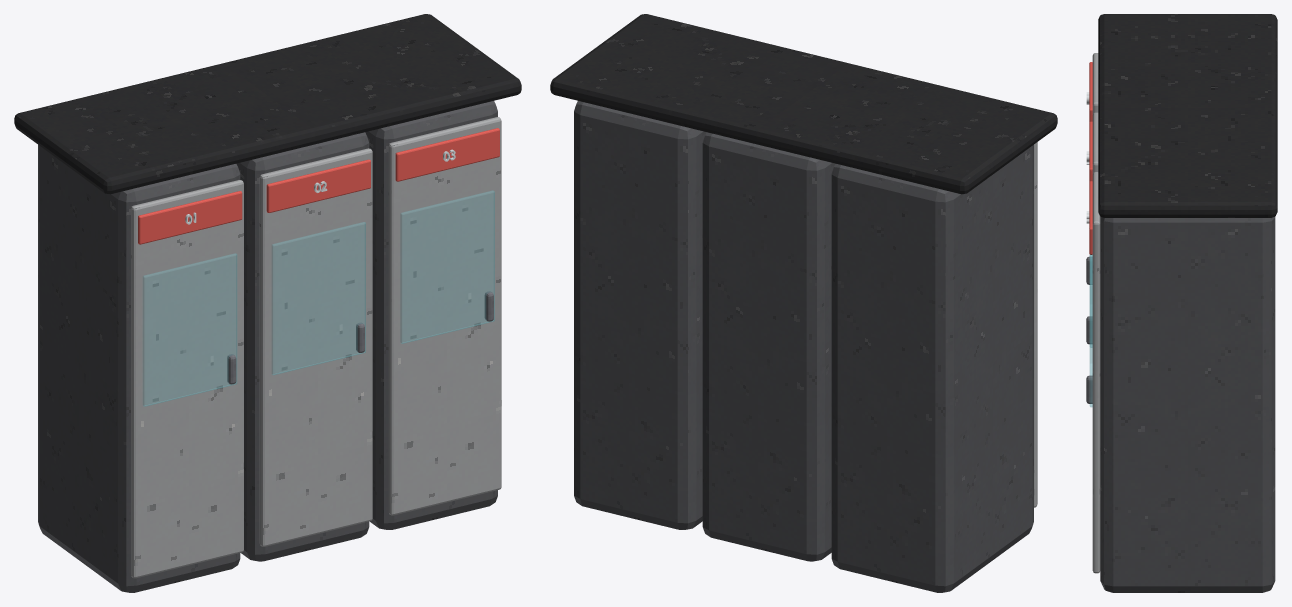
File: decor_sec_equipment_locker_bank.glb
3 views of the same model, side by side, from view 1: azimuth 30°, elevation 25°; view 2: azimuth 150°, elevation 25°; view 3: azimuth 270°, elevation 25° (orthographic). The views are drawn at different scales.
Visible parts, largest first — view 1: DEC_SecEquipmentLockerBank__Top_Trim, DEC_SecEquipmentLockerBank__Body_1, DEC_SecEquipmentLockerBank__Door_3, DEC_SecEquipmentLockerBank__Door_2, DEC_SecEquipmentLockerBank__Door_1, DEC_SecEquipmentLockerBank__Window_1, DEC_SecEquipmentLockerBank__Window_3, DEC_SecEquipmentLockerBank__Window_2, DEC_SecEquipmentLockerBank__Body_3, DEC_SecEquipmentLockerBank__Body_2, DEC_SecEquipmentLockerBank__Header_1, DEC_SecEquipmentLockerBank__Header_3 (+1 smaller); view 2: DEC_SecEquipmentLockerBank__Body_1, DEC_SecEquipmentLockerBank__Body_2, DEC_SecEquipmentLockerBank__Body_3, DEC_SecEquipmentLockerBank__Top_Trim, DEC_SecEquipmentLockerBank__Door_1; view 3: DEC_SecEquipmentLockerBank__Body_3, DEC_SecEquipmentLockerBank__Top_Trim, DEC_SecEquipmentLockerBank__Door_3, DEC_SecEquipmentLockerBank__Window_3, DEC_SecEquipmentLockerBank__Door_1, DEC_SecEquipmentLockerBank__Door_2, DEC_SecEquipmentLockerBank__Header_3.
Part boxes in pixels (bbox=[...]): DEC_SecEquipmentLockerBank__Top_Trim: bbox=[14, 14, 521, 194]; DEC_SecEquipmentLockerBank__Body_1: bbox=[38, 145, 240, 592]; DEC_SecEquipmentLockerBank__Door_3: bbox=[388, 117, 501, 515]; DEC_SecEquipmentLockerBank__Door_2: bbox=[259, 148, 372, 546]; DEC_SecEquipmentLockerBank__Door_1: bbox=[131, 180, 243, 578]; DEC_SecEquipmentLockerBank__Window_1: bbox=[143, 253, 237, 406]; DEC_SecEquipmentLockerBank__Window_3: bbox=[400, 190, 494, 343]; DEC_SecEquipmentLockerBank__Window_2: bbox=[272, 222, 365, 375]; DEC_SecEquipmentLockerBank__Body_3: bbox=[365, 101, 497, 529]; DEC_SecEquipmentLockerBank__Body_2: bbox=[236, 132, 369, 561]; DEC_SecEquipmentLockerBank__Header_1: bbox=[138, 191, 242, 244]; DEC_SecEquipmentLockerBank__Header_3: bbox=[395, 128, 499, 181]; DEC_SecEquipmentLockerBank__Body_1: bbox=[831, 145, 1033, 592]; DEC_SecEquipmentLockerBank__Body_2: bbox=[702, 132, 835, 561]; DEC_SecEquipmentLockerBank__Body_3: bbox=[574, 101, 706, 529]; DEC_SecEquipmentLockerBank__Top_Trim: bbox=[550, 14, 1057, 194]; DEC_SecEquipmentLockerBank__Door_1: bbox=[1034, 142, 1037, 507]; DEC_SecEquipmentLockerBank__Body_3: bbox=[1100, 216, 1275, 592]; DEC_SecEquipmentLockerBank__Top_Trim: bbox=[1098, 14, 1277, 217]; DEC_SecEquipmentLockerBank__Door_3: bbox=[1092, 172, 1100, 573]; DEC_SecEquipmentLockerBank__Window_3: bbox=[1089, 255, 1092, 407]; DEC_SecEquipmentLockerBank__Door_1: bbox=[1092, 53, 1098, 114]; DEC_SecEquipmentLockerBank__Door_2: bbox=[1092, 112, 1098, 173]; DEC_SecEquipmentLockerBank__Header_3: bbox=[1089, 181, 1092, 254].
Bounding box in the file's own units: 2.14 × 2.08 × 0.895.
7 materials, 4 textured.
